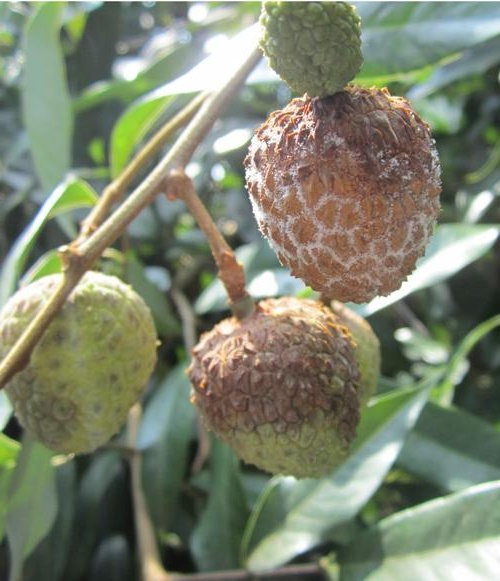Frost_Blight: (270, 102, 446, 285), (192, 293, 329, 430)
